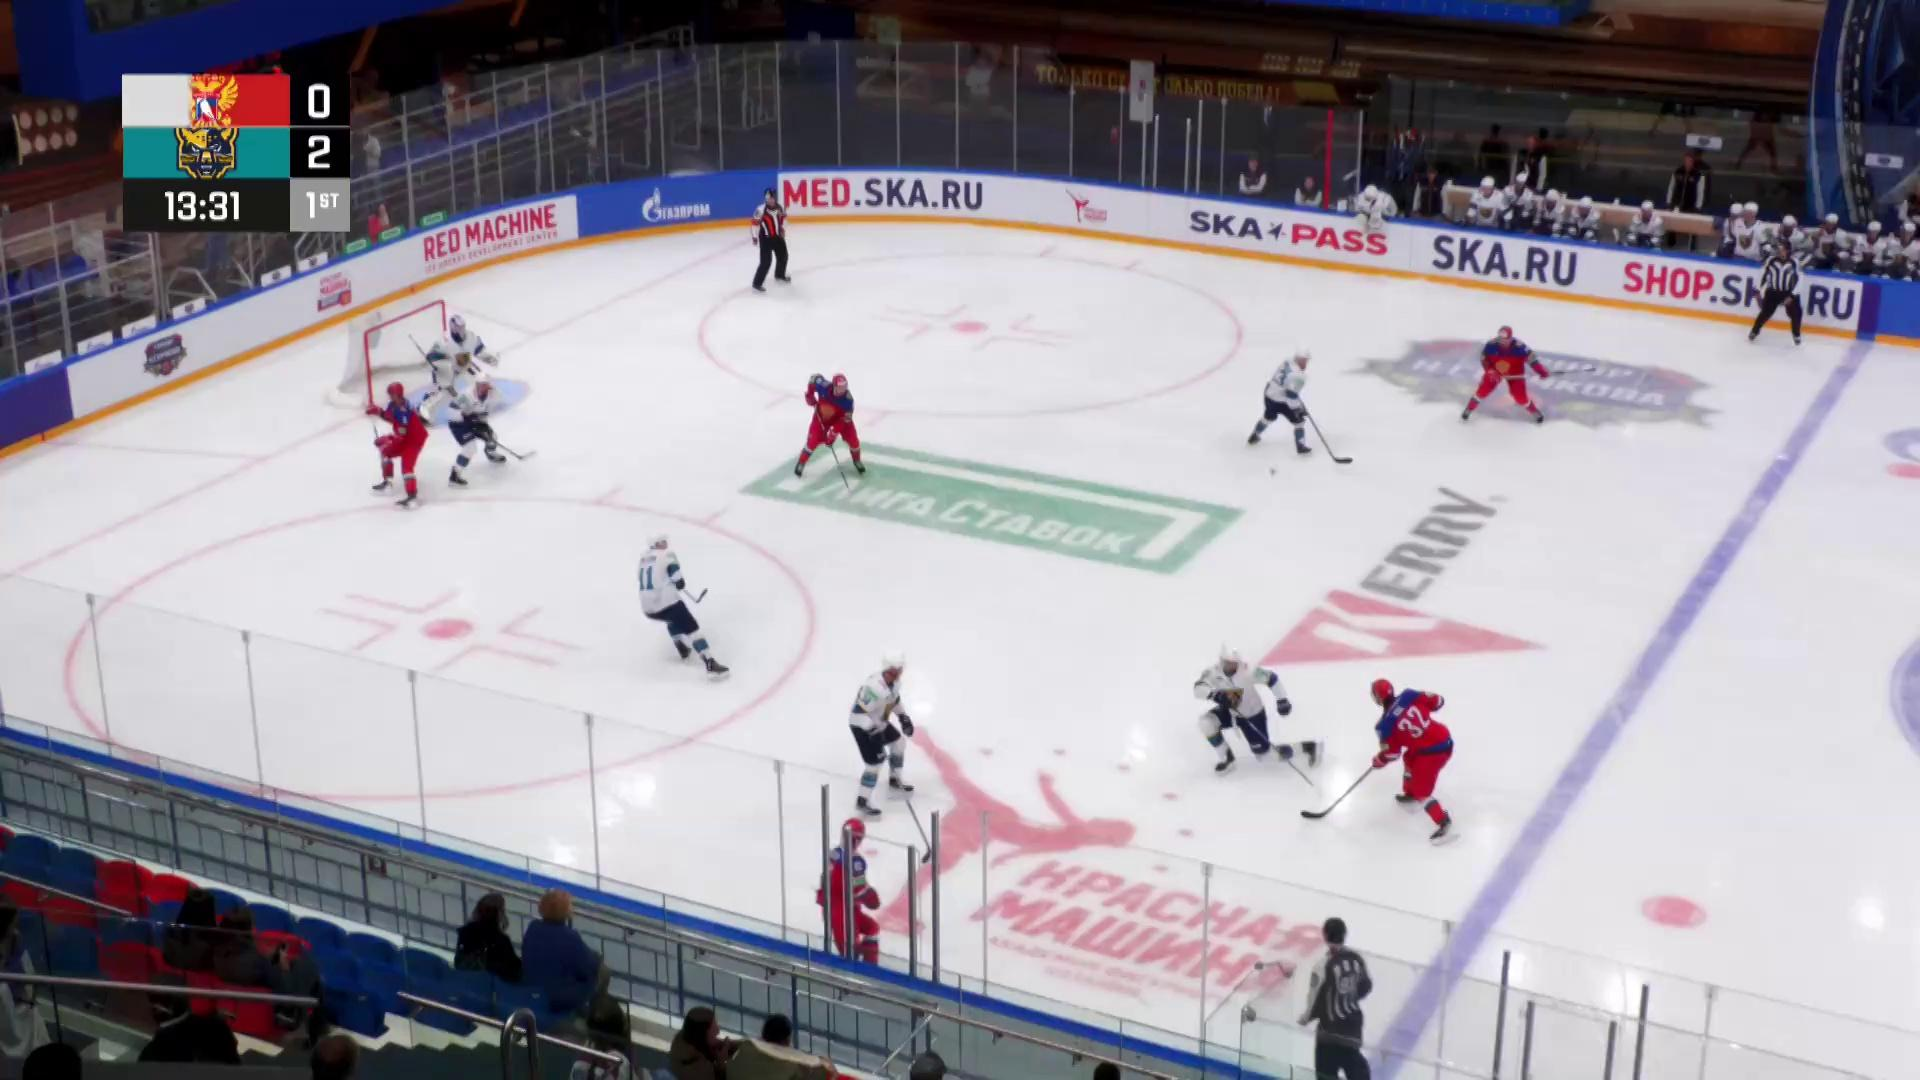ball: (1270, 467, 1278, 476)
